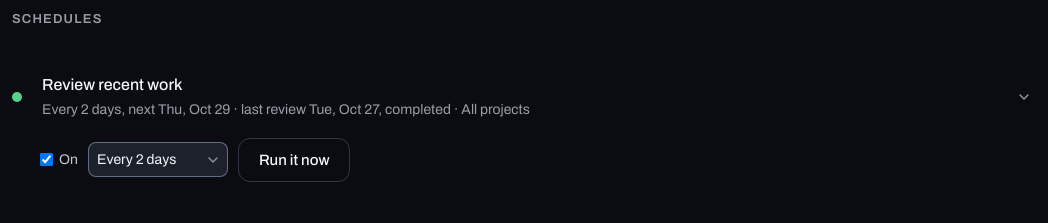
Test: Schedules (Build & settings) › Run it now starts it, and a refusal says crew's reason
Click the button with test id "schedule-run-now" at (294, 160), box 238,138 -> 350,182
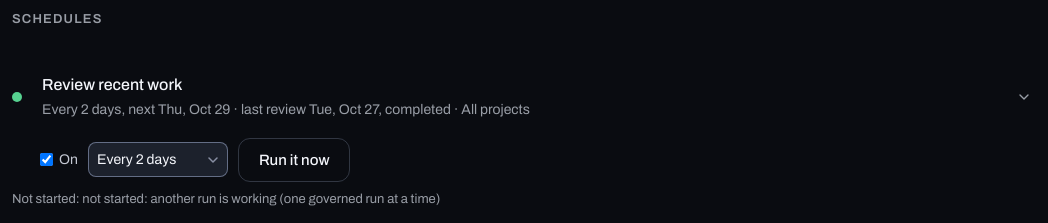
Result: the text "Not started: not started: another run is working (one governed run at a time)" is shown at 12,192 -> 440,206
Click the button with test id "schedule-run-now" at (294, 160), box 238,138 -> 350,182
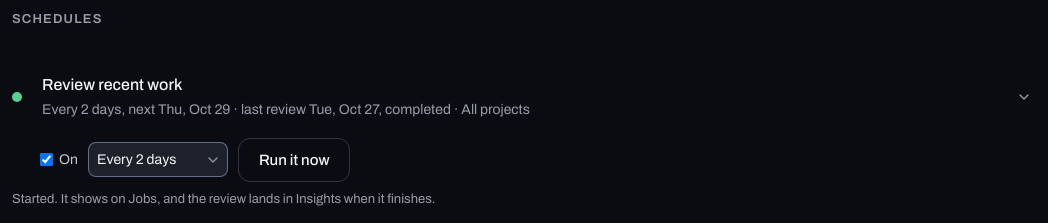
Result: the text "Started. It shows on Jobs, and the review lands in Insights when it finishes." is shown at 12,192 -> 435,206
